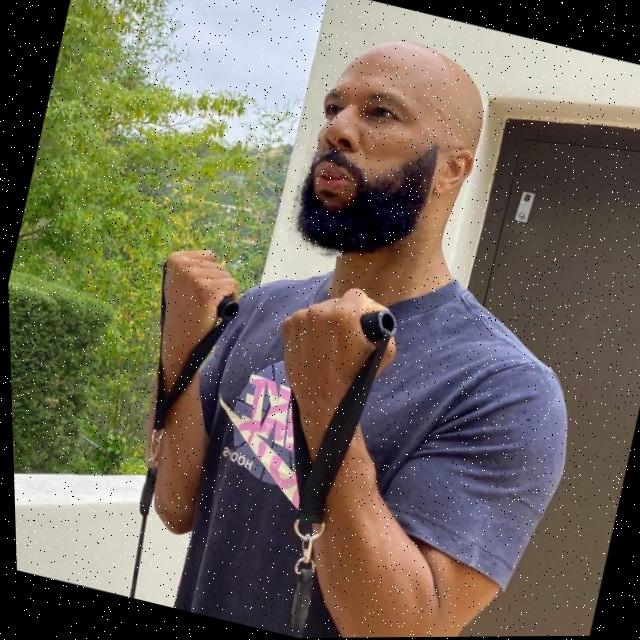beard: (291, 145, 434, 255)
